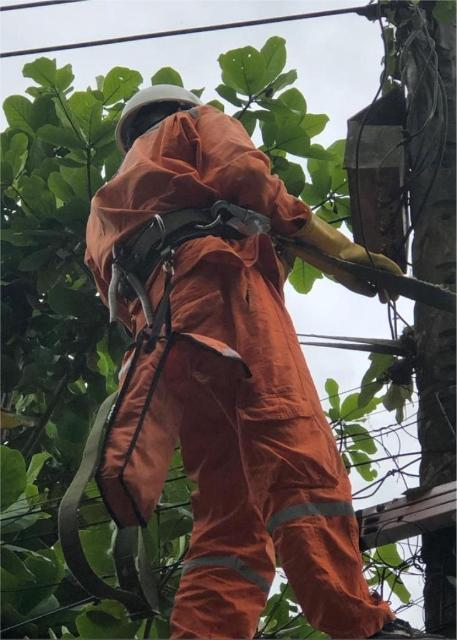gloves: (291, 193, 421, 302)
harness: (47, 196, 303, 279)
helmet: (105, 83, 227, 148)
shoes: (316, 601, 457, 640)
